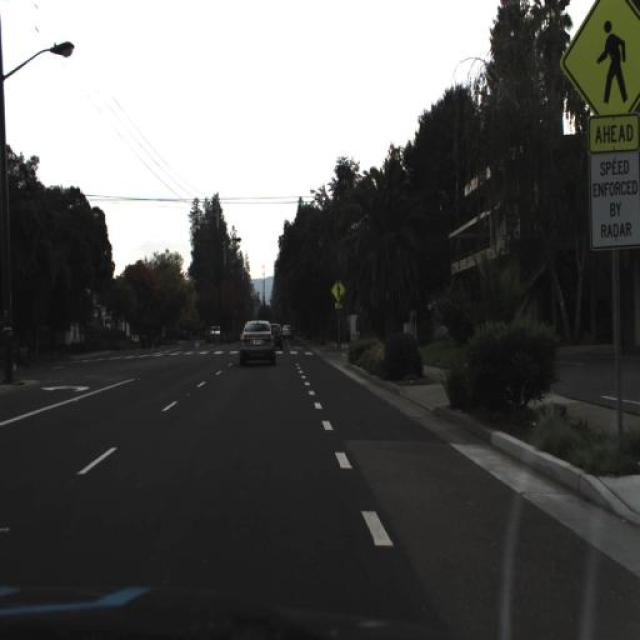car: (232, 305, 278, 379), (204, 324, 228, 354), (268, 312, 282, 352), (270, 315, 282, 357), (280, 311, 291, 343)
